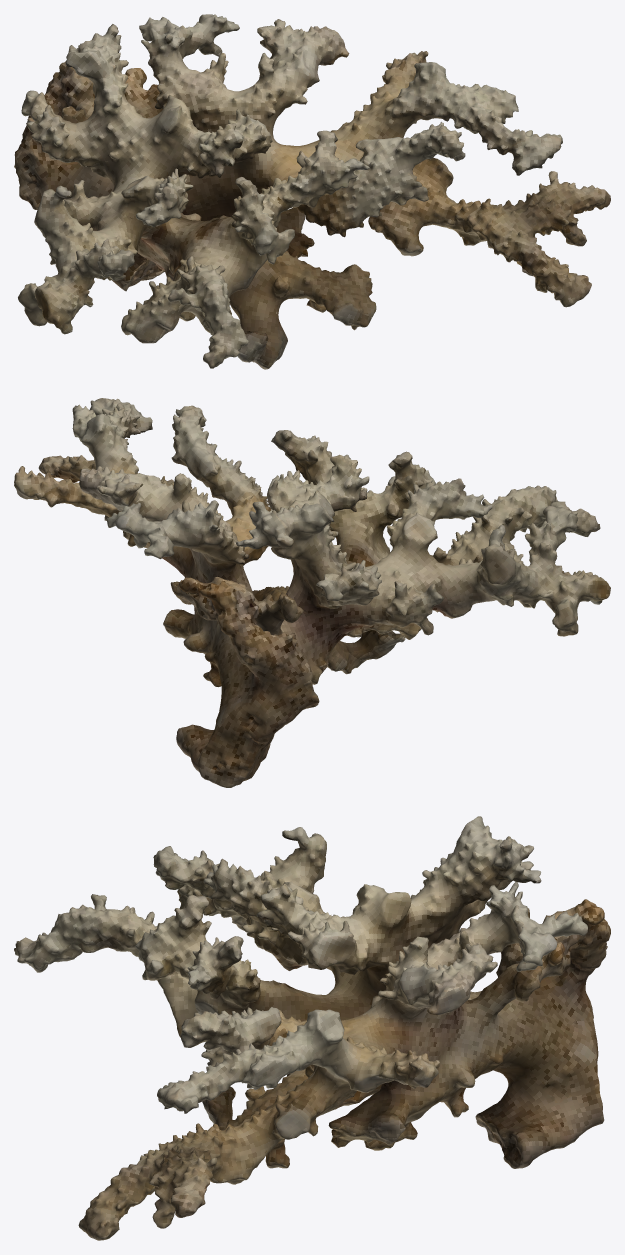
The model's file is Coral4.glb.
3 views of the same model, one above another, from view 1: azimuth 30°, elevation 25°; view 2: azimuth 150°, elevation 25°; view 3: azimuth 270°, elevation 25° (orthographic). The views are drawn at different scales.
Visible parts, largest first — view 1: Mesh_0.002; view 2: Mesh_0.002; view 3: Mesh_0.002.
Part boxes in pixels (x1,y1,x2,y2): Mesh_0.002: (14, 14, 610, 369); Mesh_0.002: (14, 398, 610, 787); Mesh_0.002: (14, 816, 610, 1240).
Bounding box in the file's own units: 10.09 × 4.56 × 8.2.
1 material, 1 textured.
